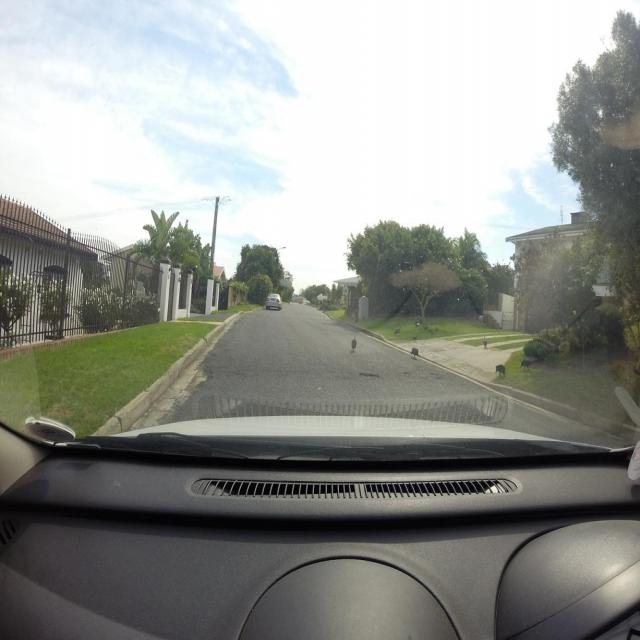Pothole: (357, 373, 380, 378)
